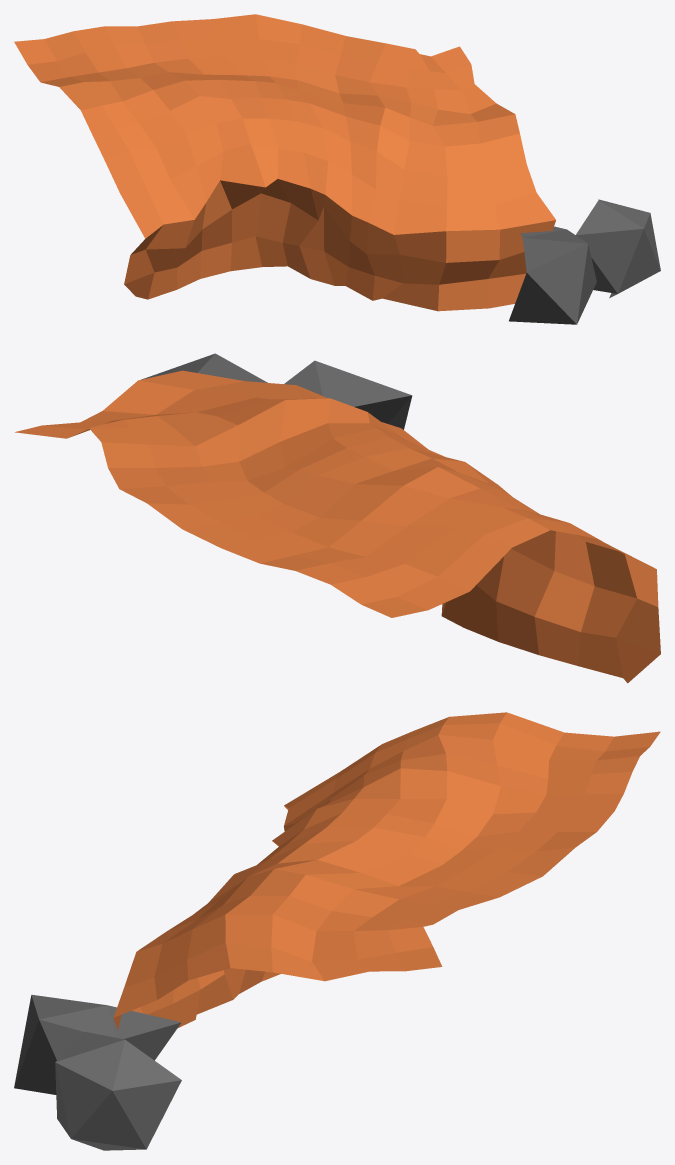
The model's file is background1.fbx.
The picture shows the model from 3 angles, top to bottom: view 1: azimuth 30°, elevation 25°; view 2: azimuth 150°, elevation 25°; view 3: azimuth 270°, elevation 25°; orthographic projection. The views are drawn at different scales.
Visible parts, largest first — view 1: SandGround.002, Rock.004, Rock.006; view 2: SandGround.002, Rock.004, Rock.006; view 3: SandGround.002, Rock.006, Rock.004.
Part boxes in pixels (bbox=[...]): SandGround.002: bbox=[14, 14, 555, 311]; Rock.004: bbox=[509, 226, 596, 324]; Rock.006: bbox=[576, 199, 660, 298]; SandGround.002: bbox=[15, 370, 660, 683]; Rock.004: bbox=[284, 360, 412, 429]; Rock.006: bbox=[141, 353, 267, 382]; SandGround.002: bbox=[113, 712, 660, 1029]; Rock.006: bbox=[55, 1031, 181, 1150]; Rock.004: bbox=[14, 994, 181, 1094].
Bounding box in the file's own units: 67.06 × 70.6 × 26.26.
